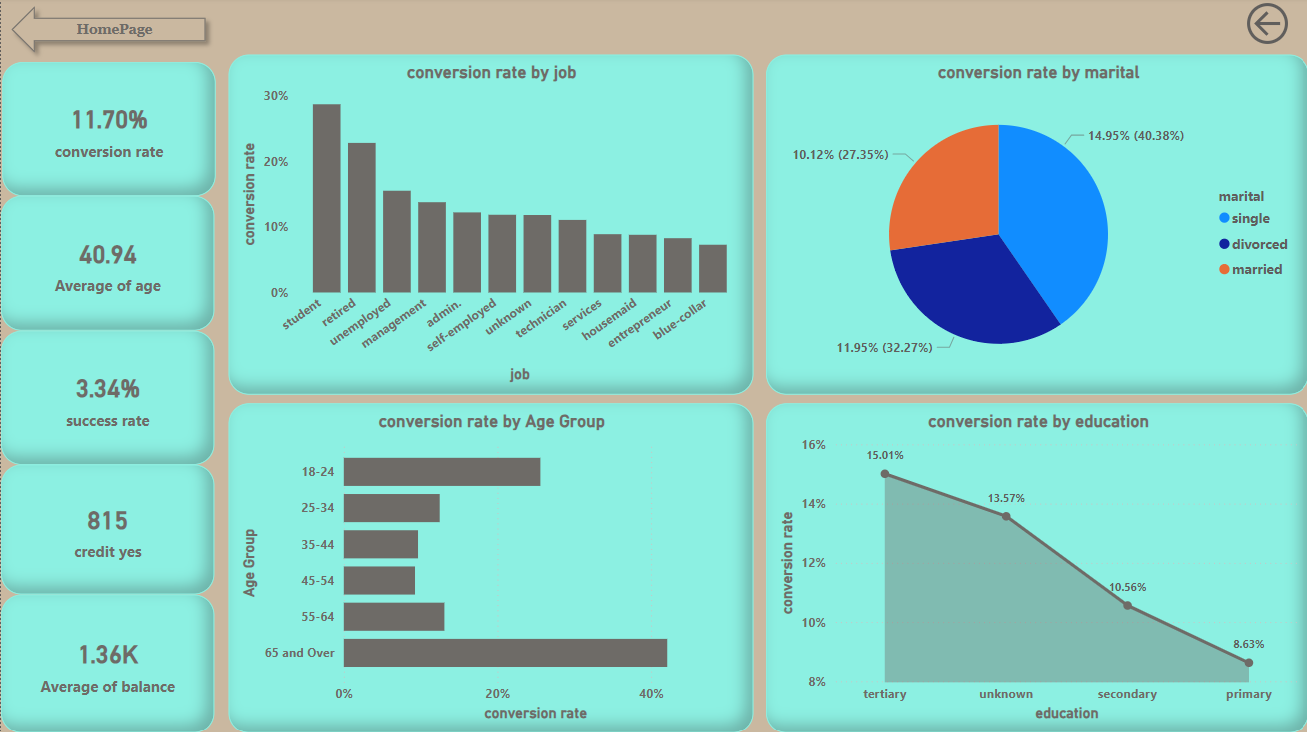

The page's visual inventory and layout, read from the dashboard file:
{"tool":"powerbi","page":{"name":"Conversion Rate","canvas":[1280,720],"ordinal":2},"visuals":[{"type":"card","fields":{"Values":["Banking data.conversion rate"]},"box":[1.2,63.6,209.1,130.8],"z":0},{"type":"lineChart","fields":{"Category":["Banking data.education"],"Y":["Banking data.conversion rate"]},"box":[748.4,397.4,531.9,322.8],"z":1000},{"type":"columnChart","fields":{"Y":["Banking data.conversion rate"],"Category":["Banking data.job"]},"box":[222.6,56.3,513.6,332.6],"z":2000},{"type":"pieChart","fields":{"Category":["Banking data.marital"],"Y":["Banking data.conversion rate"]},"box":[748.4,56.3,531.9,332.6],"z":3000},{"type":"clusteredBarChart","fields":{"Category":["Banking data.Age Group"],"Y":["Banking data.conversion rate"]},"box":[222.6,397.4,513.6,322.8],"z":4000},{"type":"actionButton","box":[1212.5,0,67.6,51.9],"z":5000},{"type":"card","fields":{"Values":["Avg(Banking data.age)"]},"box":[0,194.4,209.1,132.1],"z":6000},{"type":"card","fields":{"Values":["Avg(Banking data.balance)"]},"box":[0,584.5,209.1,135.7],"z":7000},{"type":"card","fields":{"Values":["Banking data.credit yes"]},"box":[0,457.3,209.1,127.2],"z":8000},{"type":"card","fields":{"Values":["Banking data.sucess rate"]},"box":[0,326.5,209.1,130.8],"z":9000},{"type":"shape","box":[1.2,0,207.9,63.6],"z":9001}]}

Visuals, with their boxes in screenshot pixels (x1, y1, x2, y2), scaled from the page's 1280x720 canvas onto the 1307x732 screenshot:
card - Banking data.conversion rate: bbox=(1, 65, 215, 198)
lineChart - Banking data.education x Banking data.conversion rate: bbox=(764, 404, 1306, 731)
columnChart - Banking data.conversion rate x Banking data.job: bbox=(227, 57, 752, 395)
pieChart - Banking data.marital x Banking data.conversion rate: bbox=(764, 57, 1306, 395)
clusteredBarChart - Banking data.Age Group x Banking data.conversion rate: bbox=(227, 404, 752, 731)
actionButton: bbox=(1238, 0, 1306, 53)
card - Avg(Banking data.age): bbox=(0, 198, 214, 332)
card - Avg(Banking data.balance): bbox=(0, 594, 214, 731)
card - Banking data.credit yes: bbox=(0, 465, 214, 594)
card - Banking data.sucess rate: bbox=(0, 332, 214, 465)
shape: bbox=(1, 0, 214, 65)
